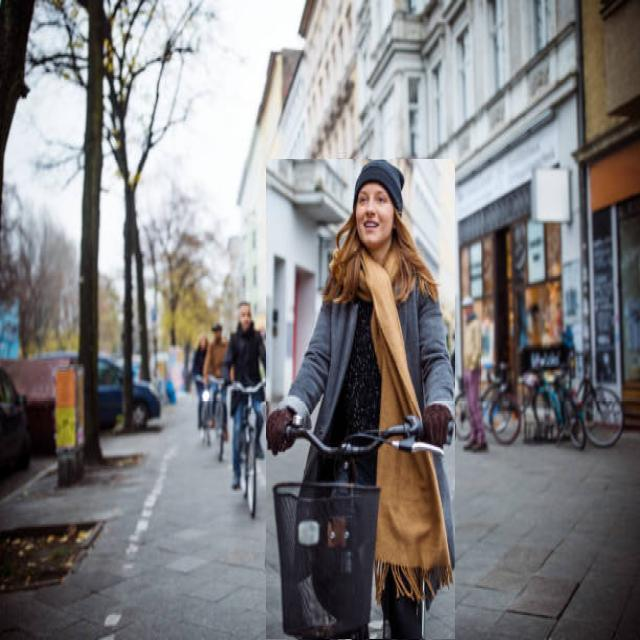bicycle: (266, 160, 455, 639)
